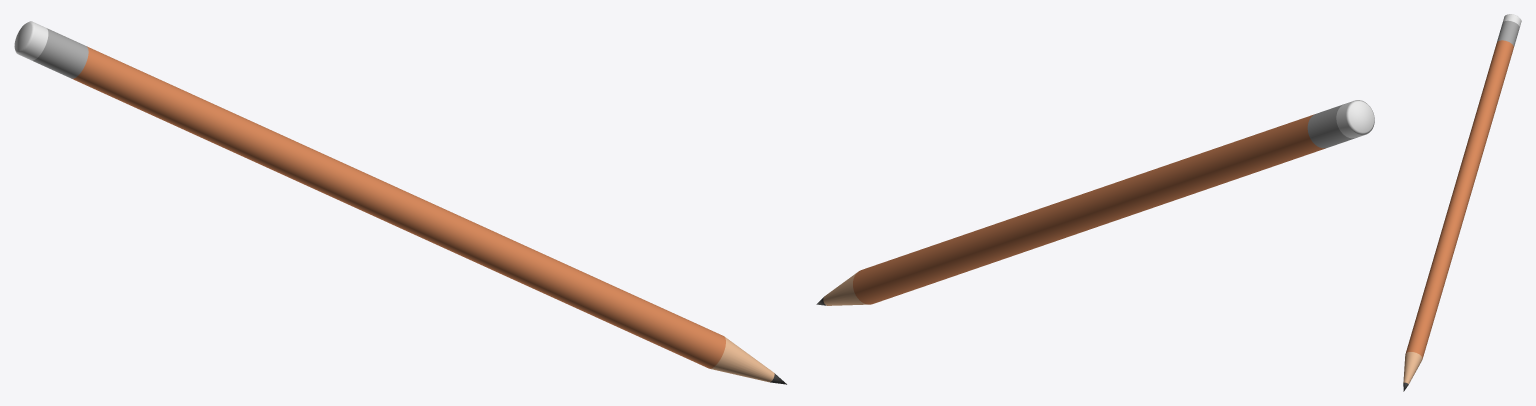
Rendered from pencil.fbx.
3 renders of one model, left to right at view 1: azimuth 30°, elevation 25°; view 2: azimuth 150°, elevation 25°; view 3: azimuth 270°, elevation 25°, orthographic. The views are drawn at different scales.
Visible parts, largest first — view 1: pencil; view 2: pencil; view 3: pencil.
Part boxes in pixels (<box>): pencil: <box>14,21,786,384</box>; pencil: <box>816,100,1374,305</box>; pencil: <box>1403,14,1521,391</box>.
Size of the model in its own units: 1.74 by 1.11 by 0.5381.
